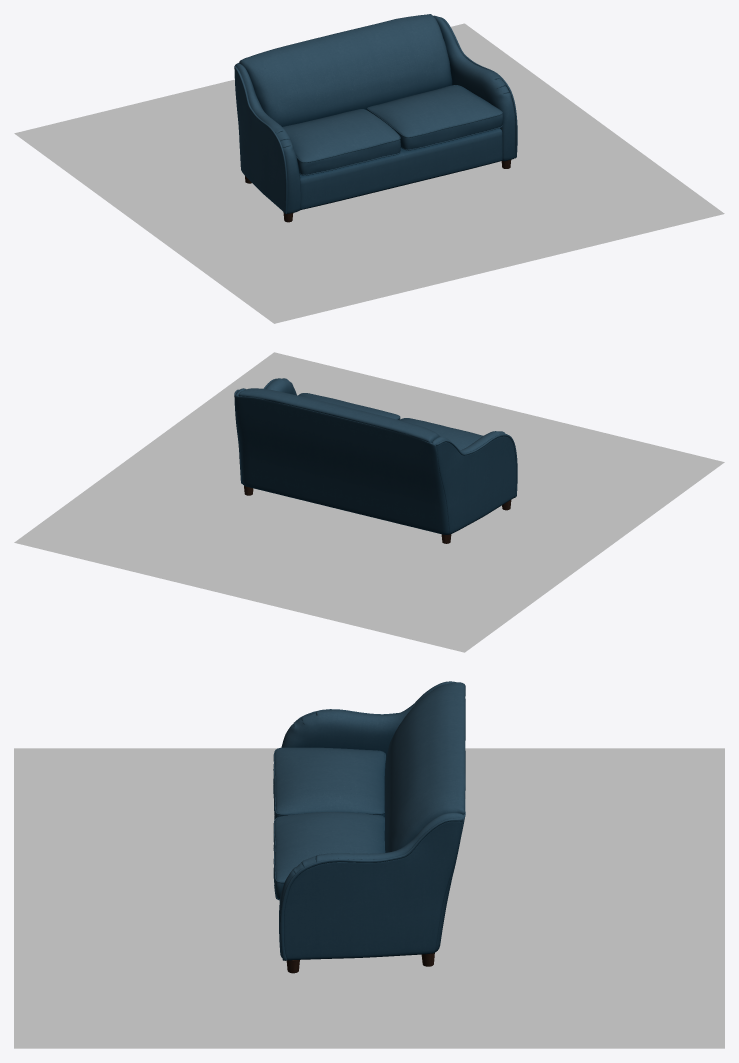
Rendered from Helena Sofabed, Plush Teal Velvet.fbx.
3 views of the same model, one above another, from view 1: azimuth 30°, elevation 25°; view 2: azimuth 150°, elevation 25°; view 3: azimuth 270°, elevation 25° (orthographic). The views are drawn at different scales.
Visible parts, largest first — view 1: Plane001, FABRIC001; view 2: Plane001, FABRIC001; view 3: Plane001, FABRIC001.
Boxes of the visible parts, x1=… form: Plane001: x1=14, y1=23, x2=724, y2=323; FABRIC001: x1=234, y1=14, x2=517, y2=213; Plane001: x1=14, y1=352, x2=724, y2=652; FABRIC001: x1=234, y1=378, x2=517, y2=534; Plane001: x1=14, y1=748, x2=724, y2=1048; FABRIC001: x1=273, y1=681, x2=465, y2=960.
Size of the model in its own units: 334 by 82.07 by 334.
